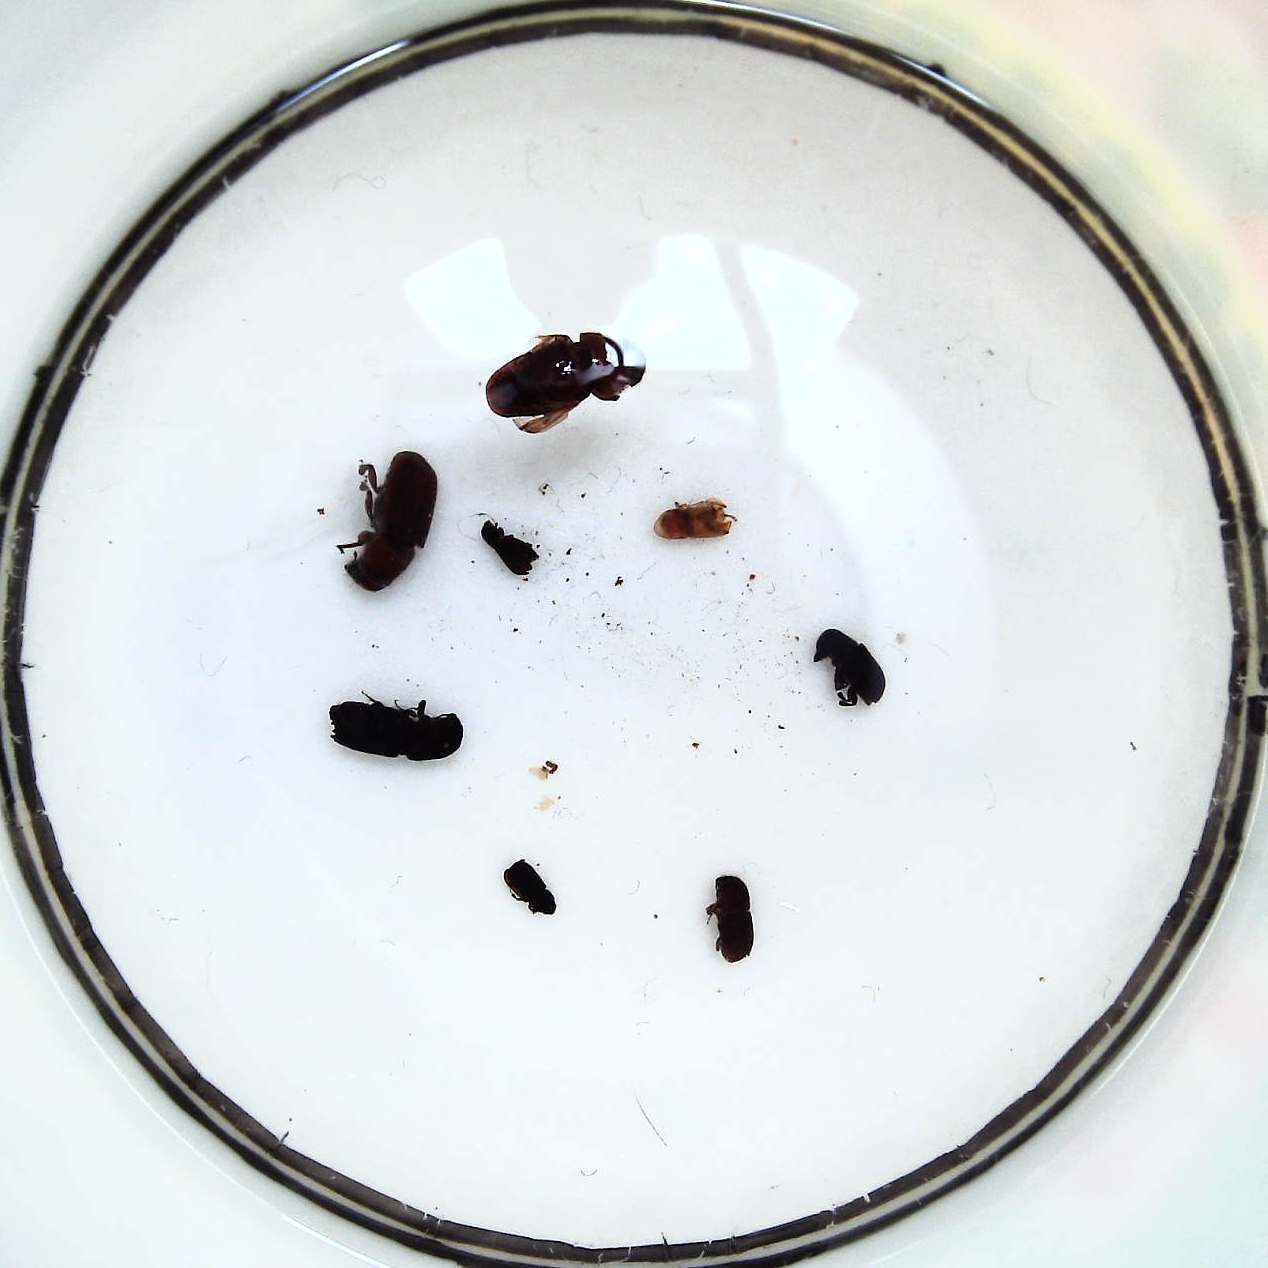Boerner: (330, 703, 464, 761)
Leconte: (485, 333, 646, 420), (343, 451, 438, 591)
acuminatus: (480, 519, 539, 576), (503, 857, 556, 914)
armandi: (813, 628, 885, 706)
coleoptera: (653, 500, 732, 539)
linnaeus: (714, 876, 755, 961)
